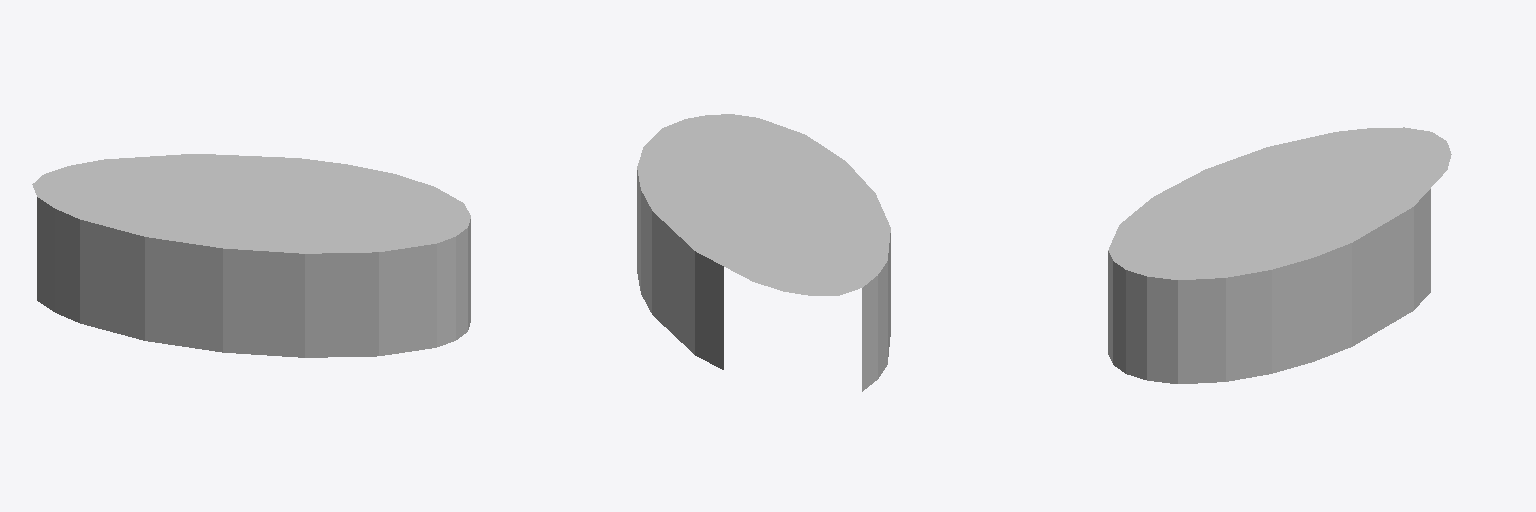
File: original-47.obj
3 renders of one model, left to right at view 1: azimuth 30°, elevation 25°; view 2: azimuth 150°, elevation 25°; view 3: azimuth 270°, elevation 25°, orthographic.
Visible parts, largest first — view 1: #ID120; view 2: #ID120; view 3: #ID120.
Part boxes in pixels (x1,y1,x2,y2): #ID120: (32,154,470,357); #ID120: (637,114,890,391); #ID120: (1108,127,1451,383).
Size of the model in its own units: 0.0055 by 0.0018 by 0.0053.